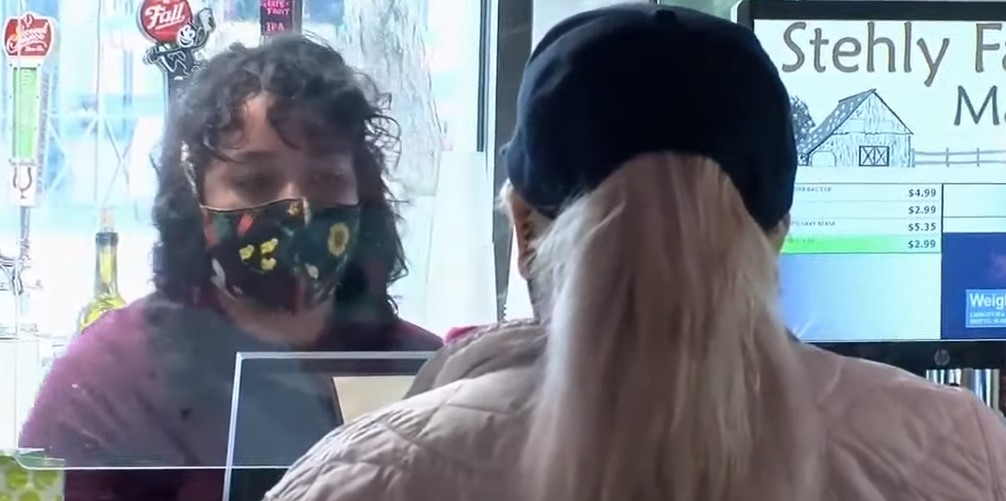face_with_mask: (178, 56, 379, 320)
